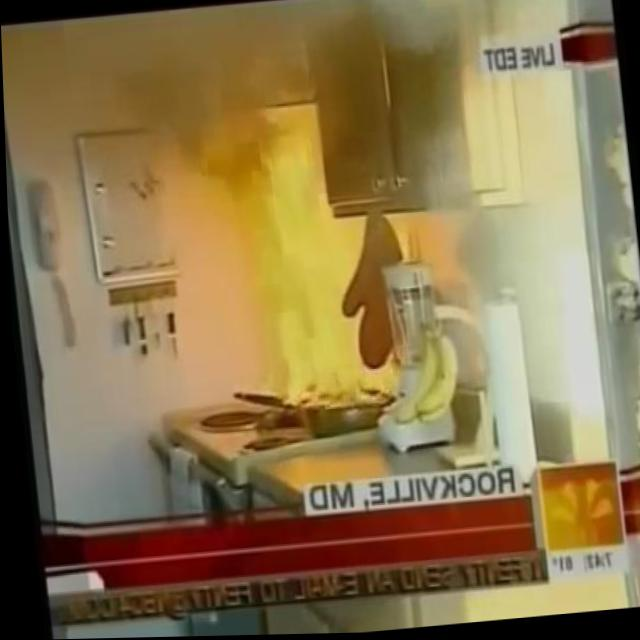fire: (237, 92, 416, 414)
